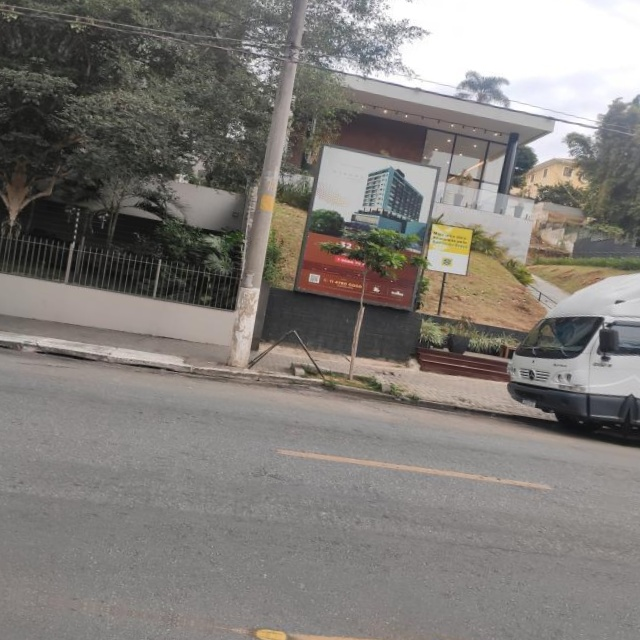qr-code: (310, 274, 319, 282)
